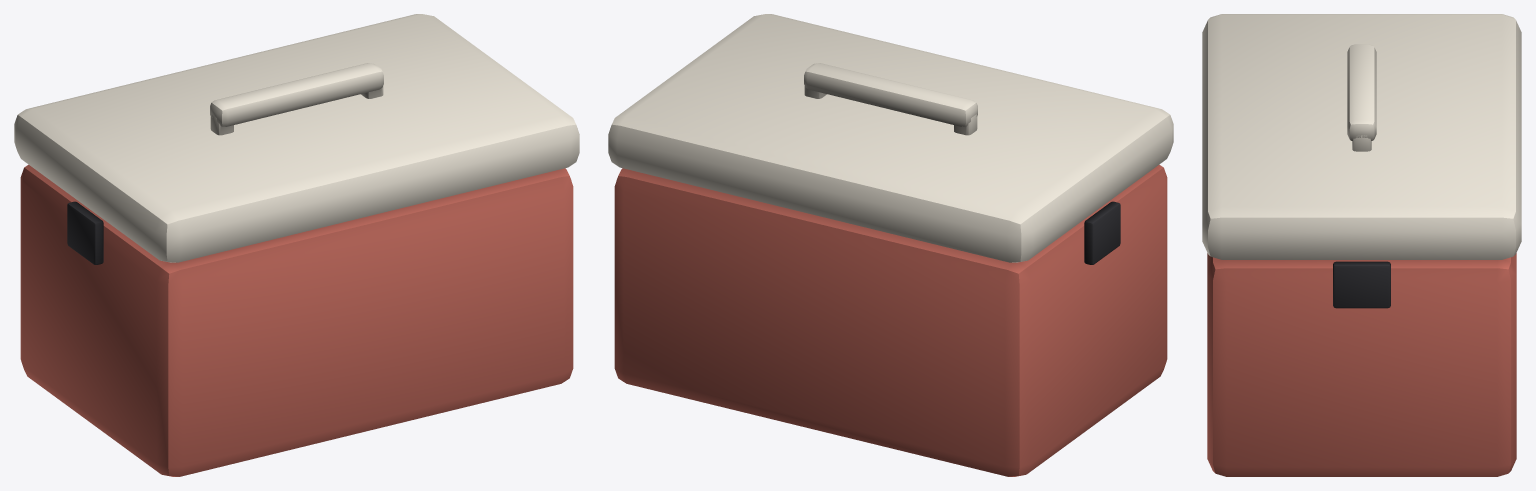
File: cook_cooler.glb
3 views of the same model, side by side, from view 1: azimuth 30°, elevation 25°; view 2: azimuth 150°, elevation 25°; view 3: azimuth 270°, elevation 25° (orthographic).
Visible parts, largest first — view 1: PART; view 2: PART; view 3: PART.
Boxes of the visible parts, box(x1,y1,x2,y2) form: PART: box(14, 14, 579, 476); PART: box(608, 14, 1173, 476); PART: box(1202, 14, 1521, 476).
Bounding box in the file's own units: 0.522 × 0.3425 × 0.33.
